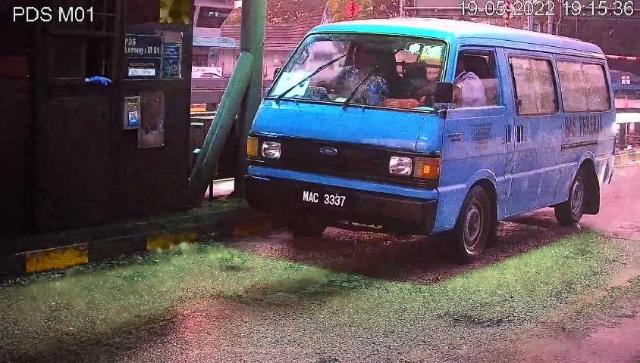License_Plate: (298, 191, 351, 212)
van: (247, 19, 618, 265)
